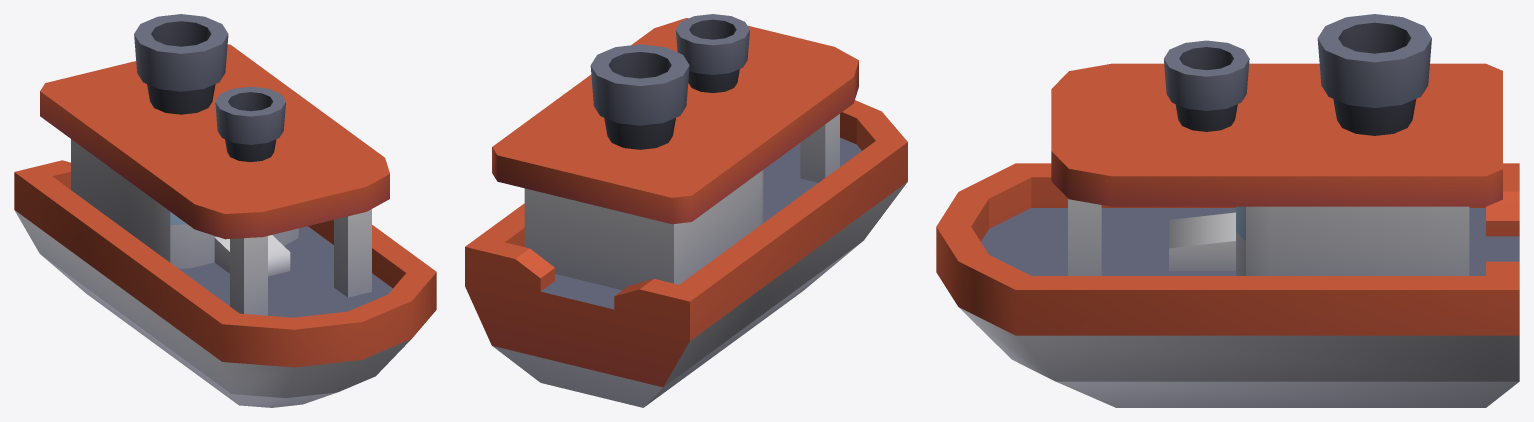
Rendered from boat-tug-a.glb.
The picture shows the model from 3 angles, left to right: view 1: azimuth 30°, elevation 25°; view 2: azimuth 150°, elevation 25°; view 3: azimuth 270°, elevation 25°; orthographic projection. The views are drawn at different scales.
Parts seen in each view (by area): view 1: boat-tug-a; view 2: boat-tug-a; view 3: boat-tug-a.
Part boxes in pixels (bbox=[...]): boat-tug-a: bbox=[14, 14, 436, 407]; boat-tug-a: bbox=[465, 14, 907, 407]; boat-tug-a: bbox=[936, 14, 1519, 407].
Bounding box in the file's own units: 1.78 × 2.24 × 3.47.
